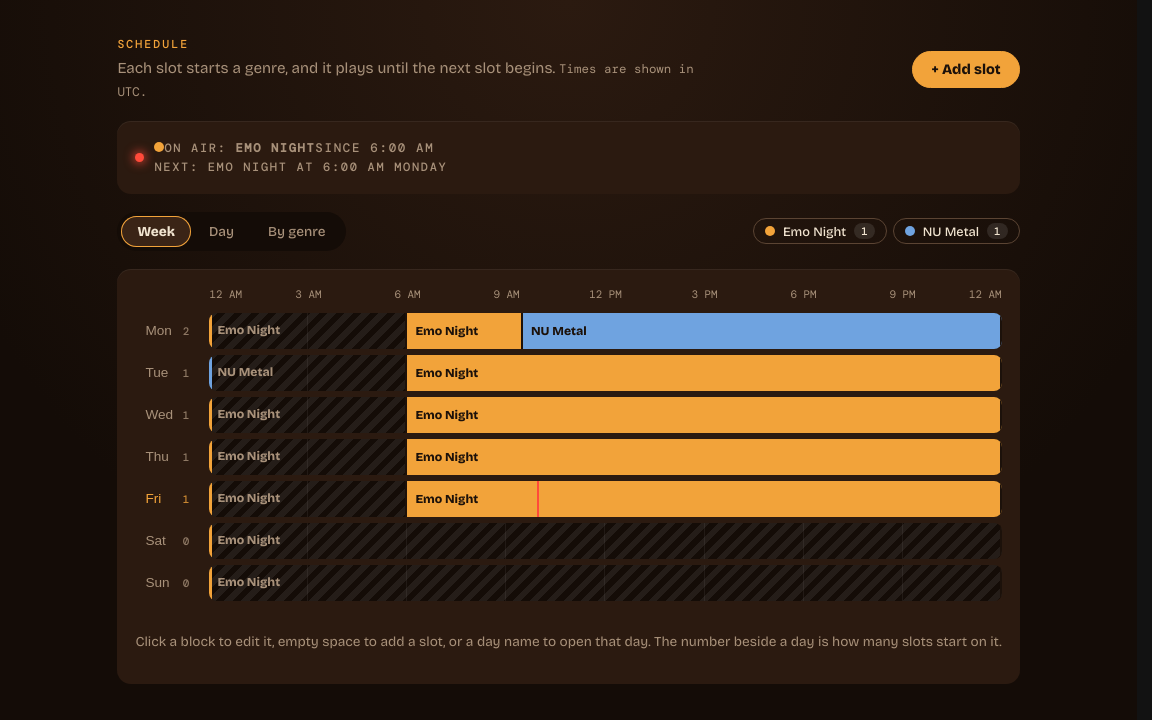
Test: SchedulePanel › orders day pills Monday-first with slot counts and a today dot
The image size is (1152, 720).
Expected: the text "On air:" is shown, [164,140,235,156]
Click the button "Day".
click(222, 231)  # box [193,216,250,246]
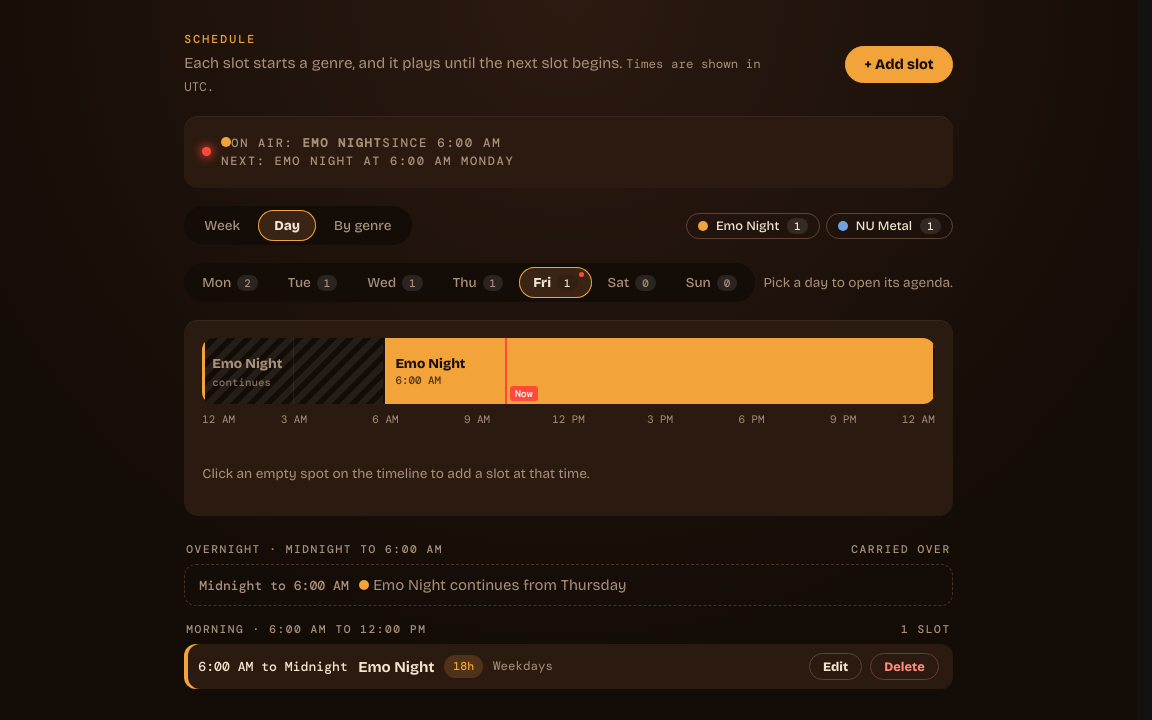
Expected: the button "Mon2" is shown, [188,267,272,298]
Expected: the button "Tue1" is shown, [274,267,351,298]
Expected: the button "Sun0" is shown, [672,267,751,298]
